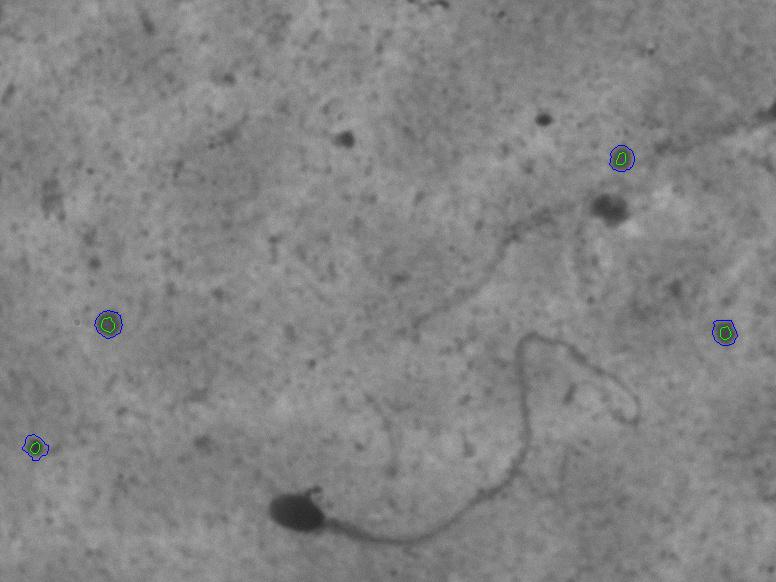Normal: (253, 310, 667, 568)
